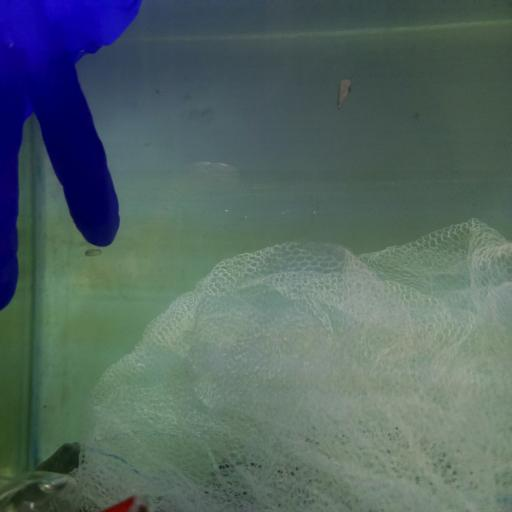glove: (0, 0, 139, 314)
net: (77, 215, 512, 512)
